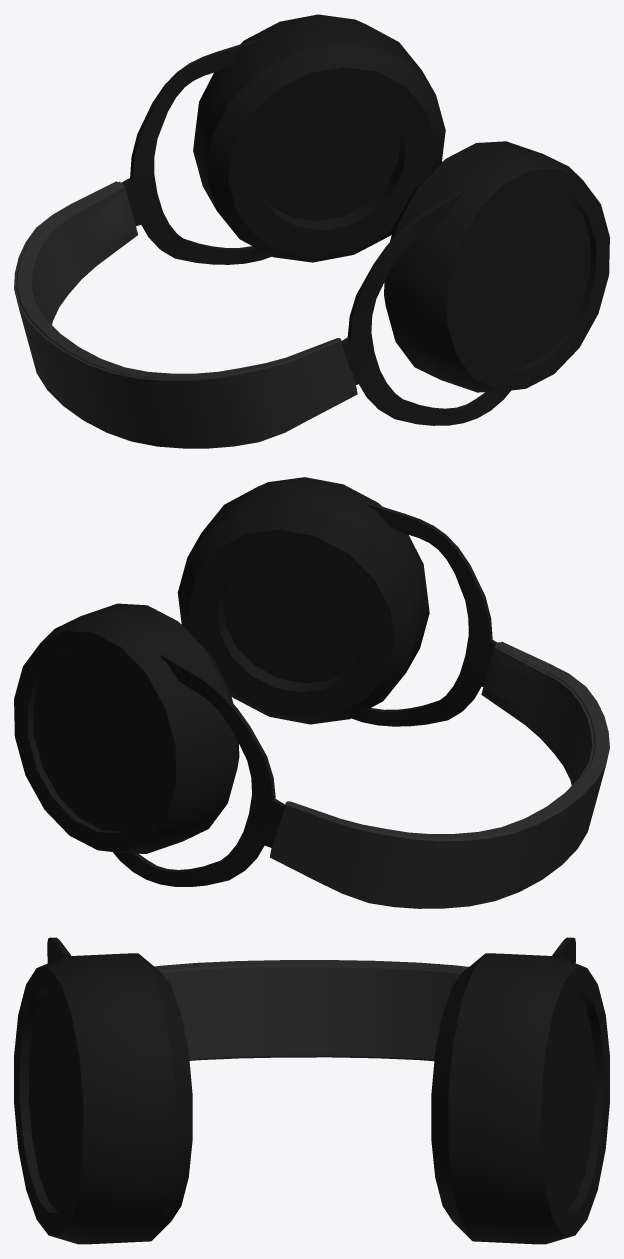
File: Headphones.FBX
The picture shows the model from 3 angles, top to bottom: view 1: azimuth 30°, elevation 25°; view 2: azimuth 150°, elevation 25°; view 3: azimuth 270°, elevation 25°; orthographic projection. The views are drawn at different scales.
Visible parts, largest first — view 1: headphones; view 2: headphones; view 3: headphones.
Boxes of the visible parts, x1,y1,x2,y2 form: headphones: [14, 14, 609, 448]; headphones: [14, 477, 609, 908]; headphones: [14, 937, 609, 1244].
Size of the model in its own units: 21.13 by 10.49 by 20.
Materials: 1 (1 with a texture image).
